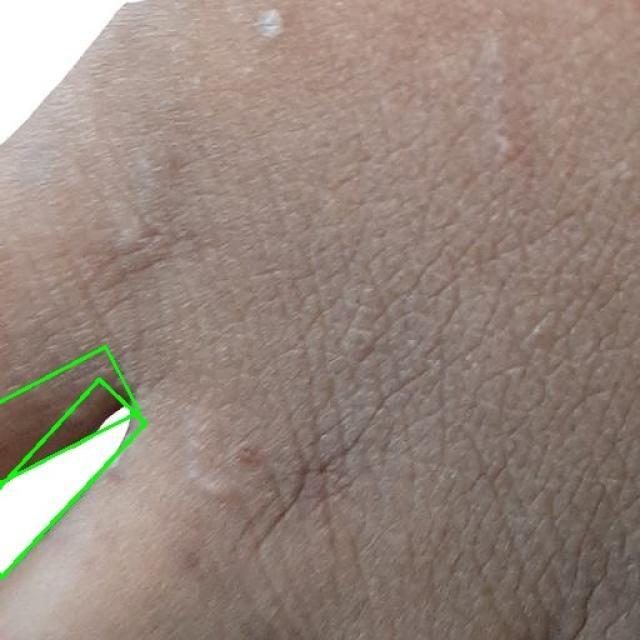Scabies: (0, 380, 152, 597), (0, 347, 146, 498)
